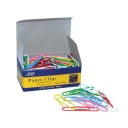Metal: (60, 101, 101, 117), (51, 92, 75, 114)
